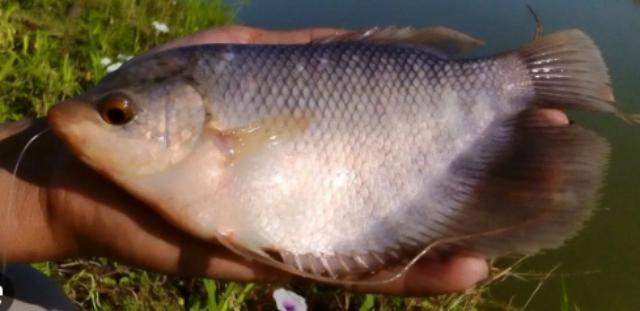Mulut: (26, 82, 100, 162)
Sirip Anal: (279, 114, 619, 280)
Sirip Dada: (190, 94, 328, 190)
Sirip Ekor: (504, 21, 630, 128)
Sirip Perut: (207, 225, 447, 311)
Sirip Punggung: (280, 13, 492, 81)
